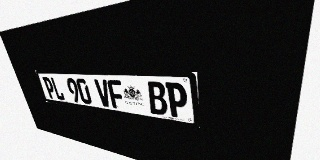0: (75, 78, 92, 105)
9: (65, 78, 82, 103)
B: (146, 81, 168, 116)
F: (107, 80, 126, 110)
L: (50, 77, 65, 101)
P: (165, 82, 188, 119), (42, 77, 57, 99)
V: (94, 79, 112, 108)
